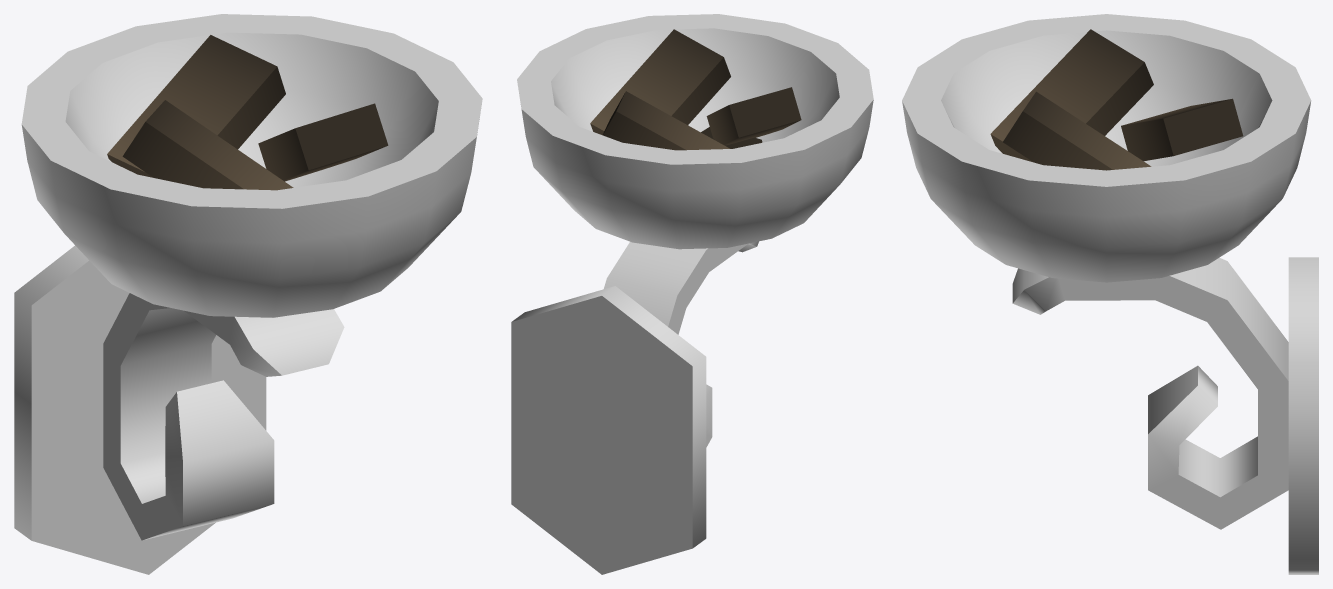
File: torch_small.fbx
3 views of the same model, side by side, from view 1: azimuth 30°, elevation 25°; view 2: azimuth 150°, elevation 25°; view 3: azimuth 270°, elevation 25° (orthographic). The views are drawn at different scales.
Visible parts, largest first — view 1: Cylinder.002, Plane.025, Plane.024, Cube.046; view 2: Cylinder.002, Plane.024, Cube.046, Plane.025; view 3: Cylinder.002, Plane.025, Cube.046, Plane.024.
Boxes of the visible parts, <box> form: Cylinder.002: <box>21,14,482,317</box>; Plane.025: <box>103,293,344,540</box>; Plane.024: <box>14,245,266,574</box>; Cube.046: <box>107,35,388,190</box>; Cylinder.002: <box>517,14,873,249</box>; Plane.024: <box>511,286,706,574</box>; Cube.046: <box>590,29,801,150</box>; Plane.025: <box>604,241,758,447</box>; Cylinder.002: <box>902,14,1311,282</box>; Plane.025: <box>1012,257,1288,529</box>; Cube.046: <box>990,29,1243,170</box>; Plane.024: <box>1288,257,1318,574</box>.
Bounding box in the file's own units: 0.3627 × 0.4851 × 0.3695.
